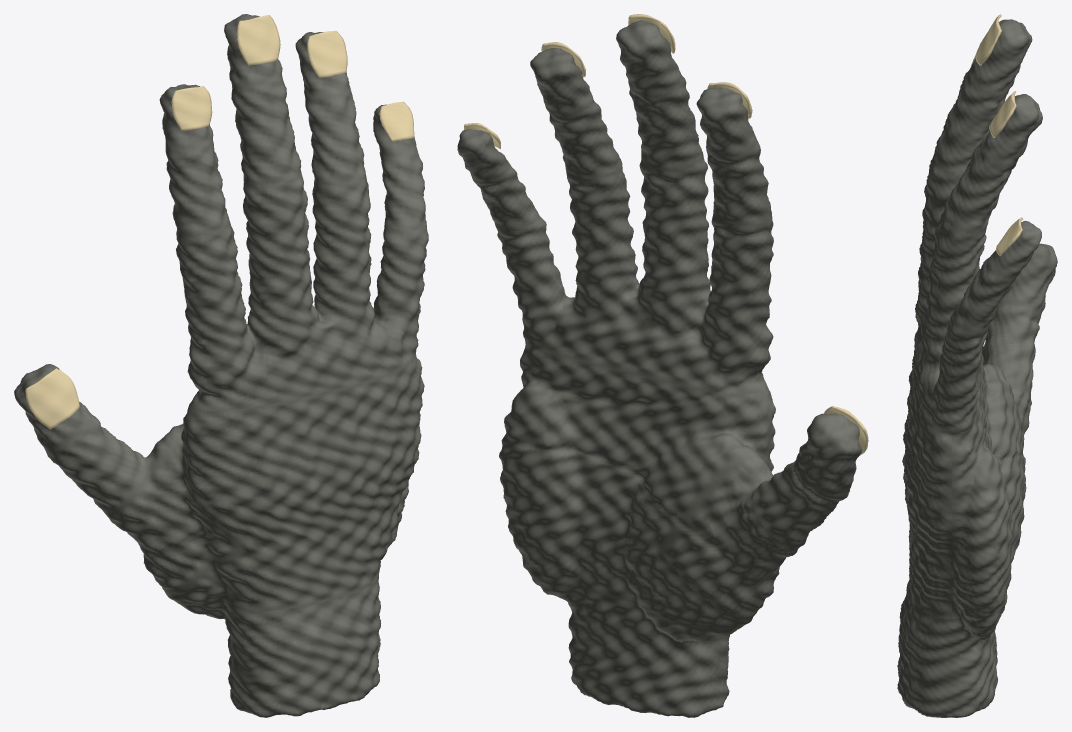
The model's file is family-13.glb.
3 renders of one model, left to right at view 1: azimuth 30°, elevation 25°; view 2: azimuth 150°, elevation 25°; view 3: azimuth 270°, elevation 25°, orthographic. The views are drawn at different scales.
Visible parts, largest first — view 1: knuckles__knuckles_sculpt, back_of_hand__back_of_hand_sculpt, middle_sections__middle_sections_sculpt, wrist__wrist_sculpt, fingertips__fingertips_sculpt, palm__palm_sculpt, nails__thumb_claw, nails__middle_claw, nails__ring_claw, nails__index_claw, nails__pinky_claw; view 2: knuckles__knuckles_sculpt, palm__palm_sculpt, middle_sections__middle_sections_sculpt, wrist__wrist_sculpt, fingertips__fingertips_sculpt; view 3: palm__palm_sculpt, knuckles__knuckles_sculpt, middle_sections__middle_sections_sculpt, wrist__wrist_sculpt, back_of_hand__back_of_hand_sculpt, fingertips__fingertips_sculpt, nails__middle_claw, nails__ring_claw, nails__pinky_claw.
Boxes of the visible parts, x1,y1,x2,y2 form: knuckles__knuckles_sculpt: (102,173,428,593); back_of_hand__back_of_hand_sculpt: (186,355,424,611); middle_sections__middle_sections_sculpt: (45,78,426,511); wrist__wrist_sculpt: (176,557,383,717); fingertips__fingertips_sculpt: (14,14,418,450); palm__palm_sculpt: (164,400,409,604); nails__thumb_claw: (25,368,80,429); nails__middle_claw: (237,15,280,65); nails__ring_claw: (307,30,347,78); nails__index_claw: (171,86,212,130); nails__pinky_claw: (379,101,414,141); knuckles__knuckles_sculpt: (495,151,806,619); palm__palm_sculpt: (499,340,770,629); middle_sections__middle_sections_sculpt: (471,74,851,545); wrist__wrist_sculpt: (531,576,742,717); fingertips__fingertips_sculpt: (457,20,862,494); palm__palm_sculpt: (950,354,1024,631); knuckles__knuckles_sculpt: (912,155,1031,501); middle_sections__middle_sections_sculpt: (933,71,1040,393); wrist__wrist_sculpt: (897,579,997,717); back_of_hand__back_of_hand_sculpt: (902,359,951,619); fingertips__fingertips_sculpt: (969,19,1057,315); nails__middle_claw: (975,14,1001,65); nails__ring_claw: (989,91,1016,137); nails__pinky_claw: (996,217,1022,255).
Bounding box in the file's own units: 0.1318 × 0.2178 × 0.0481.
2 materials, 1 textured.
